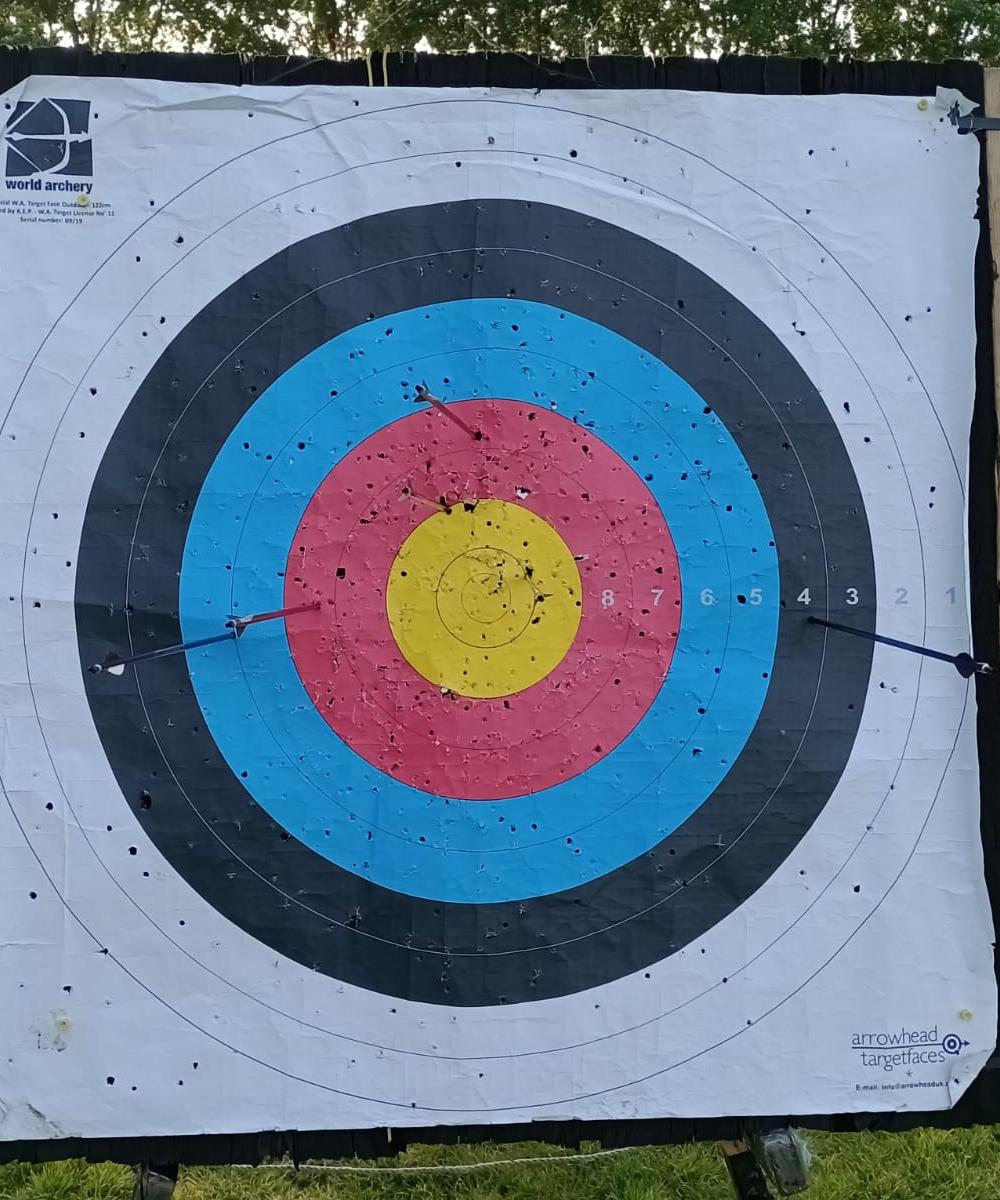1-Ring: (0, 103, 976, 1114)
10-Ring: (434, 546, 538, 651)
2-Ring: (13, 142, 933, 1067)
3-Ring: (74, 201, 876, 1007)
4-Ring: (129, 252, 827, 953)
5-Ring: (179, 300, 778, 903)
6-Ring: (233, 351, 730, 852)
7-Ring: (258, 371, 708, 827)
8-Ring: (273, 388, 697, 812)
9-Ring: (387, 499, 582, 699)
Arrow: (808, 603, 996, 685), (85, 612, 237, 684), (408, 379, 477, 450), (224, 604, 318, 638)
